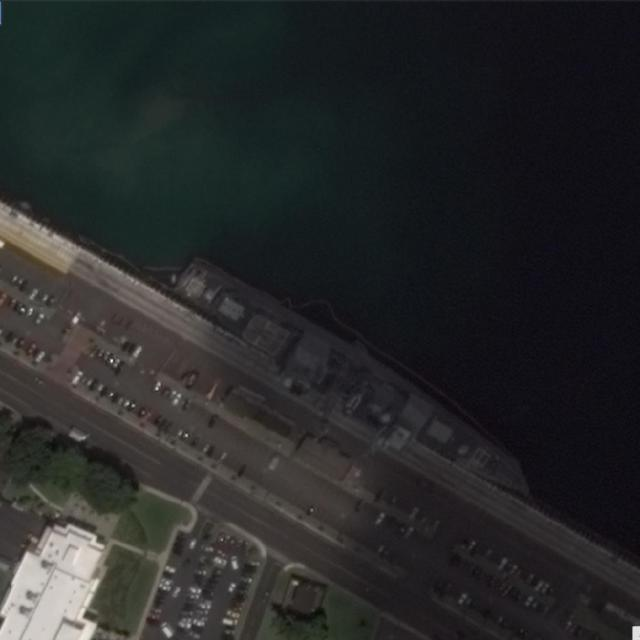Cruiser: (171, 250, 548, 500)
